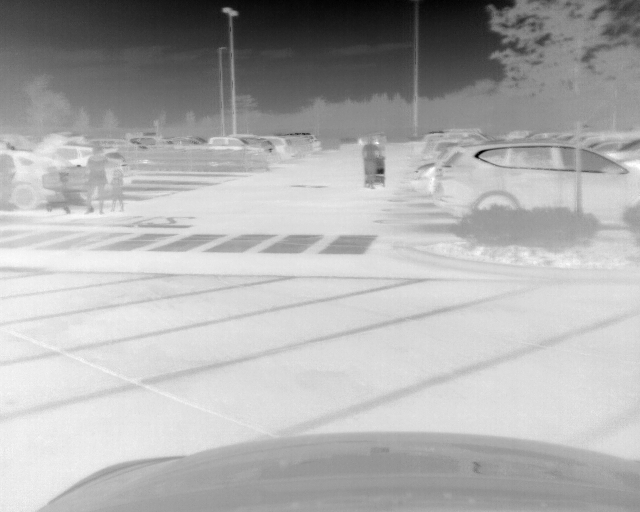car: (431, 141, 640, 232), (1, 150, 80, 209), (53, 145, 129, 200), (208, 135, 276, 165), (264, 136, 300, 164), (296, 131, 322, 157), (356, 131, 389, 149)
people: (82, 145, 107, 214), (358, 137, 380, 190), (1, 153, 17, 210), (109, 157, 124, 211)
